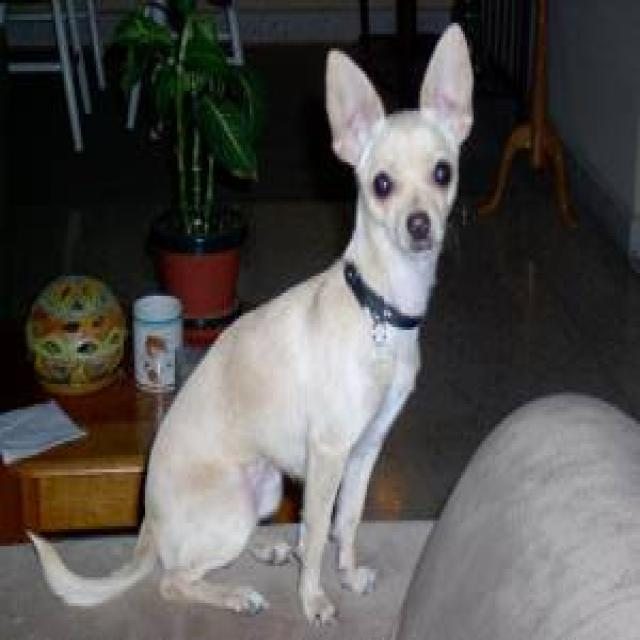dog-chihuahua: (17, 9, 486, 634)
